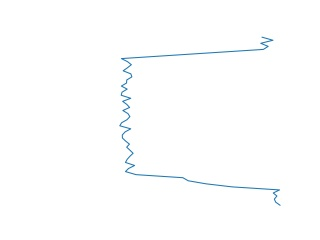distributaryChannelFill: (117, 37, 285, 207)
